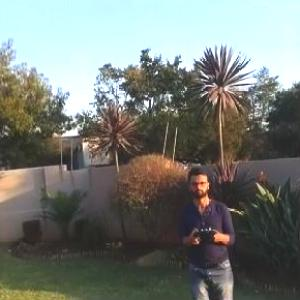follow: (176, 162, 239, 299)
